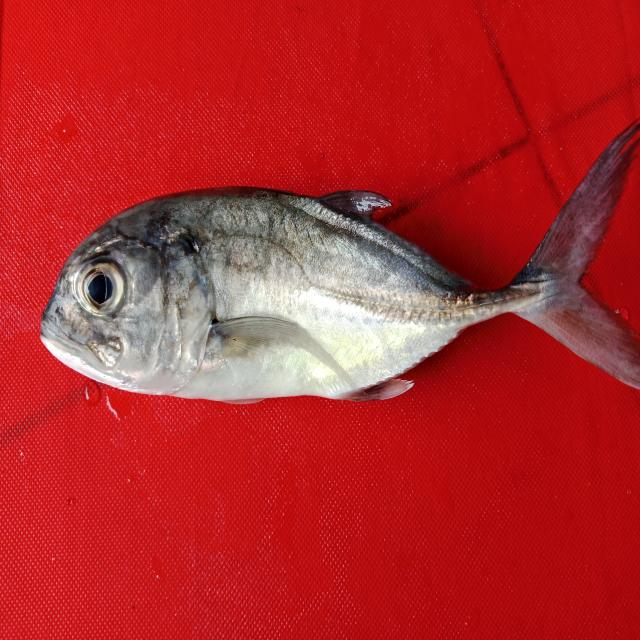ikan: (22, 142, 634, 415)
